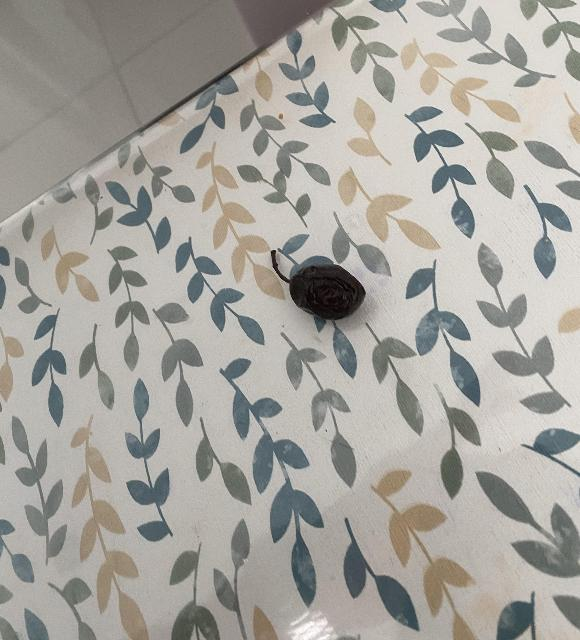Organik: (269, 246, 370, 332)
